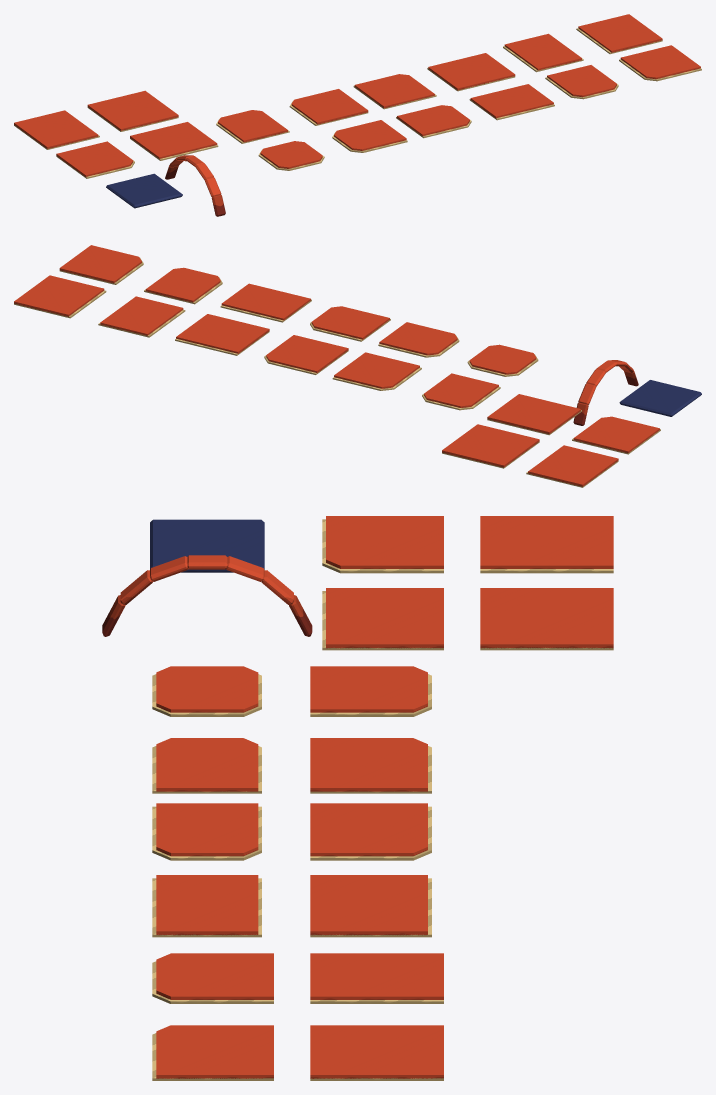
Rendered from R4H_HullKit.glb.
3 renders of one model, top to bottom at view 1: azimuth 30°, elevation 25°; view 2: azimuth 150°, elevation 25°; view 3: azimuth 270°, elevation 25°, orthographic. The views are drawn at different scales.
Visible parts, largest first — view 1: plate_15, plate_07, plate_13, plate_11, plate_14, plate_05, plate_03, plate_06, plate_09, plate_12, plate_10, plate_01 (+6 smaller); view 2: plate_15, plate_11, plate_13, plate_07, plate_14, plate_09, plate_03, plate_10, plate_12, plate_05, plate_06, plate_01 (+6 smaller); view 3: plate_15, plate_14, plate_07, plate_11, plate_13, plate_10, plate_06, plate_03, plate_12, plate_09, plate_05, plate_02 (+6 smaller).
Part boxes in pixels (x1,y1,x2,y2): plate_15: [87, 90, 178, 131]; plate_07: [130, 122, 218, 160]; plate_13: [576, 14, 662, 54]; plate_11: [427, 53, 515, 91]; plate_14: [14, 110, 99, 149]; plate_05: [619, 45, 701, 81]; plate_03: [469, 84, 554, 120]; plate_06: [56, 141, 134, 178]; plate_09: [289, 89, 368, 125]; plate_12: [503, 33, 583, 72]; plate_10: [353, 74, 436, 109]; plate_01: [332, 120, 407, 152]; plate_15: [442, 424, 539, 468]; plate_11: [175, 314, 269, 355]; plate_13: [14, 275, 106, 318]; plate_07: [487, 394, 581, 435]; plate_14: [526, 445, 618, 487]; plate_09: [332, 352, 421, 390]; plate_03: [220, 283, 311, 322]; plate_10: [264, 335, 348, 374]; plate_12: [98, 296, 185, 337]; plate_05: [59, 245, 143, 284]; plate_06: [572, 416, 660, 454]; plate_01: [378, 322, 459, 357]; plate_15: [480, 588, 613, 650]; plate_14: [480, 516, 613, 573]; plate_07: [322, 588, 443, 650]; plate_11: [310, 875, 431, 937]; plate_13: [310, 1025, 443, 1080]; plate_10: [310, 803, 431, 860]; plate_06: [322, 516, 443, 573]; plate_03: [152, 875, 261, 937]; plate_12: [310, 953, 443, 1003]; plate_09: [310, 738, 431, 793]; plate_05: [152, 1025, 273, 1080]; plate_02: [152, 803, 261, 860].
Size of the model in its own units: 5.45 by 0.3398 by 2.11.
Materials: 3 (3 with a texture image).
